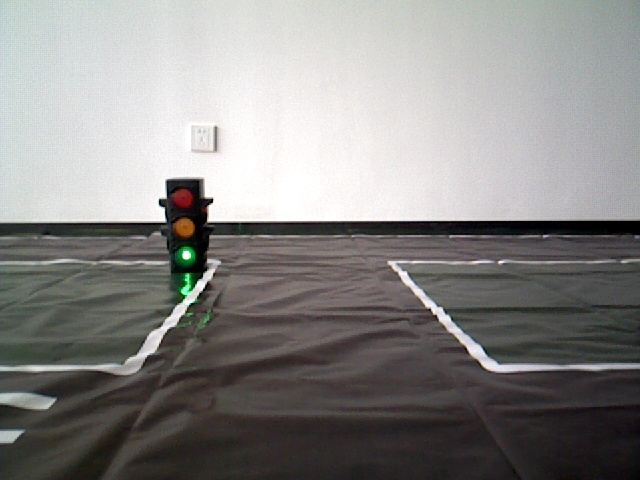green: (167, 180, 204, 266)
